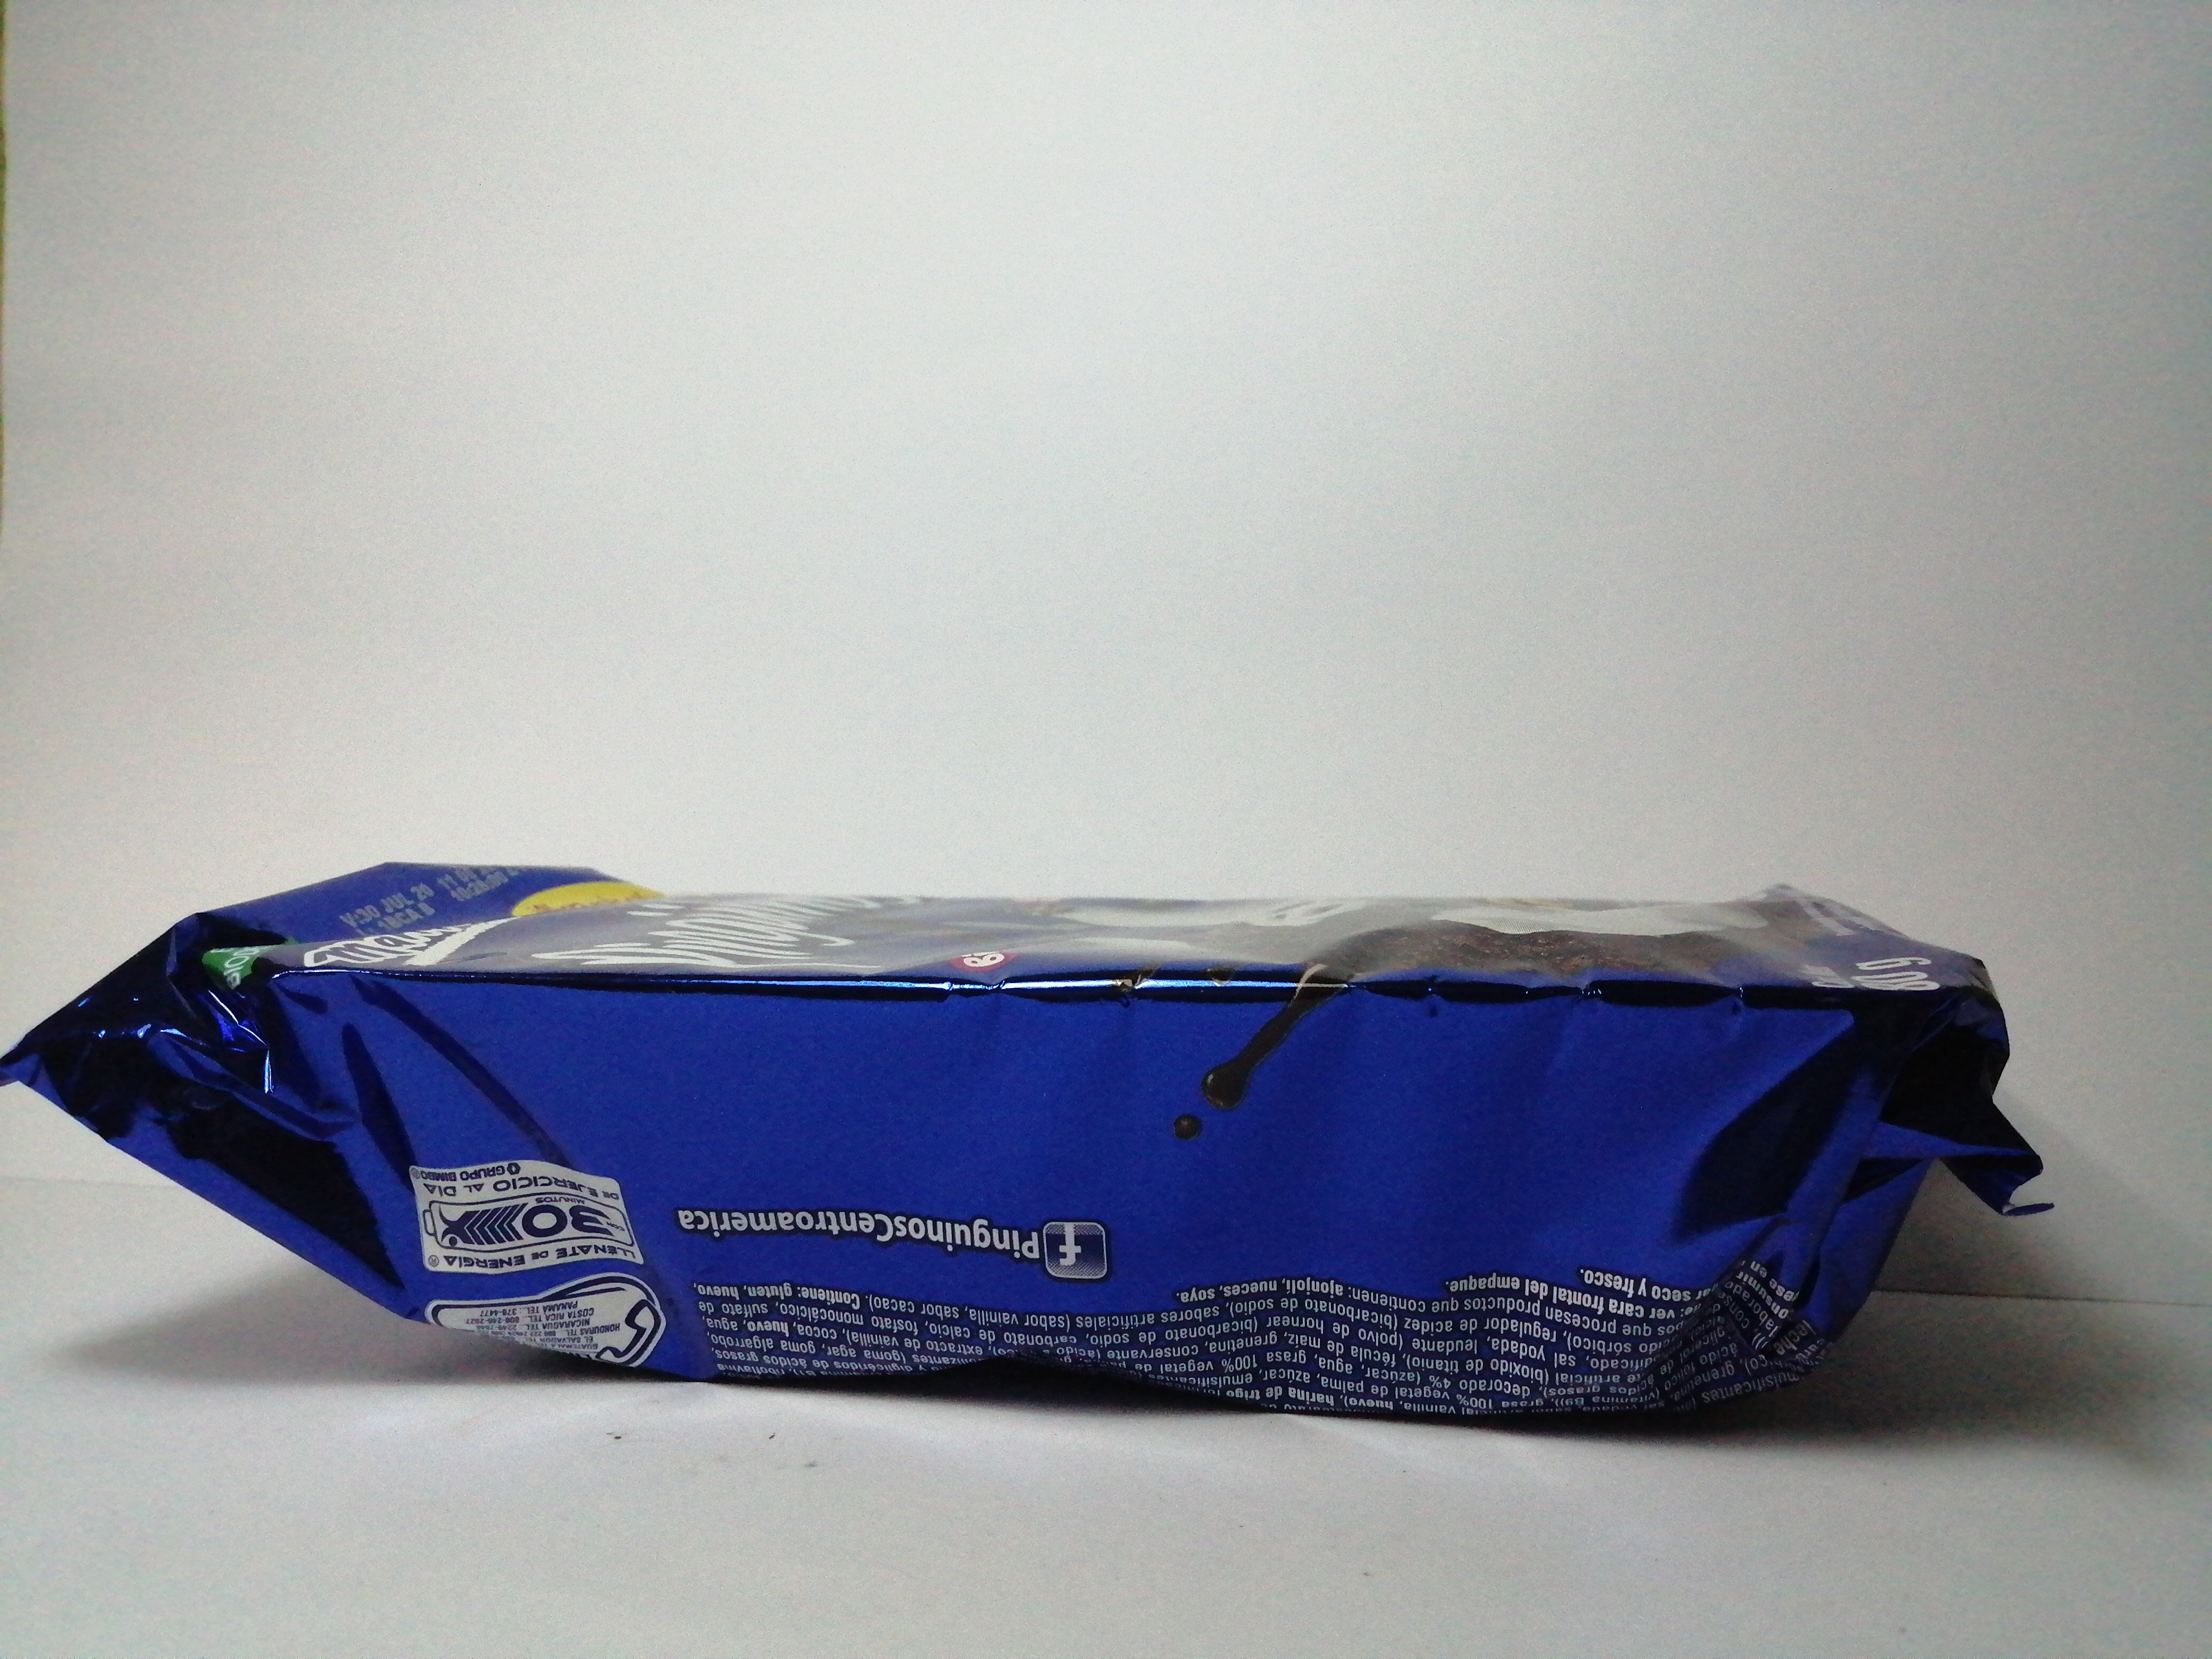pinguino: (9, 863, 2036, 1431)
